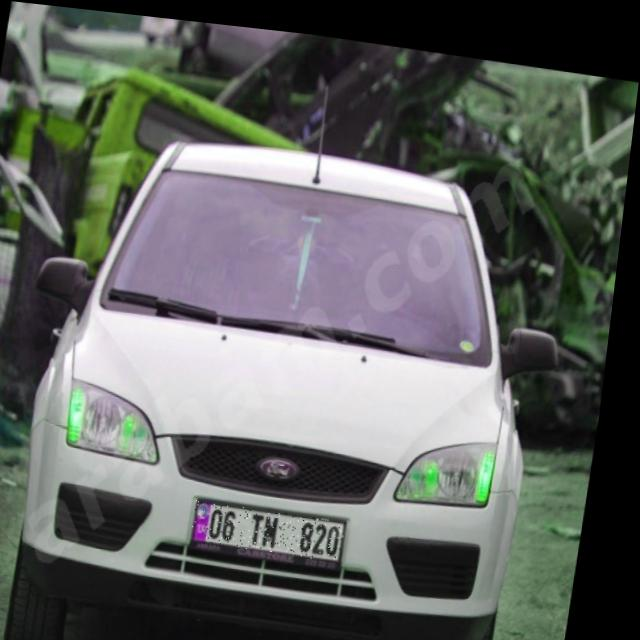license_plate: (202, 494, 357, 553)
